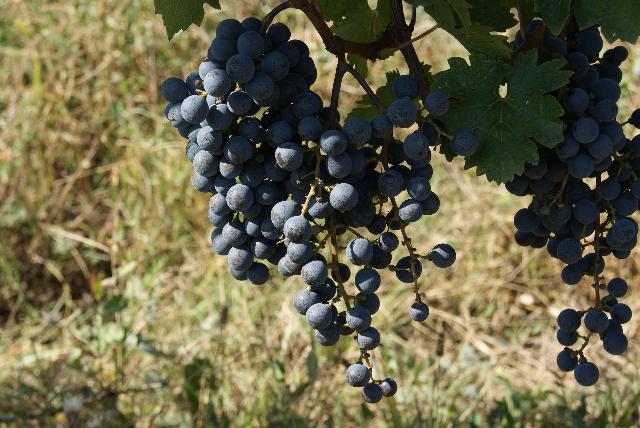grapes: (161, 19, 352, 282), (521, 18, 640, 386), (280, 99, 438, 361)
